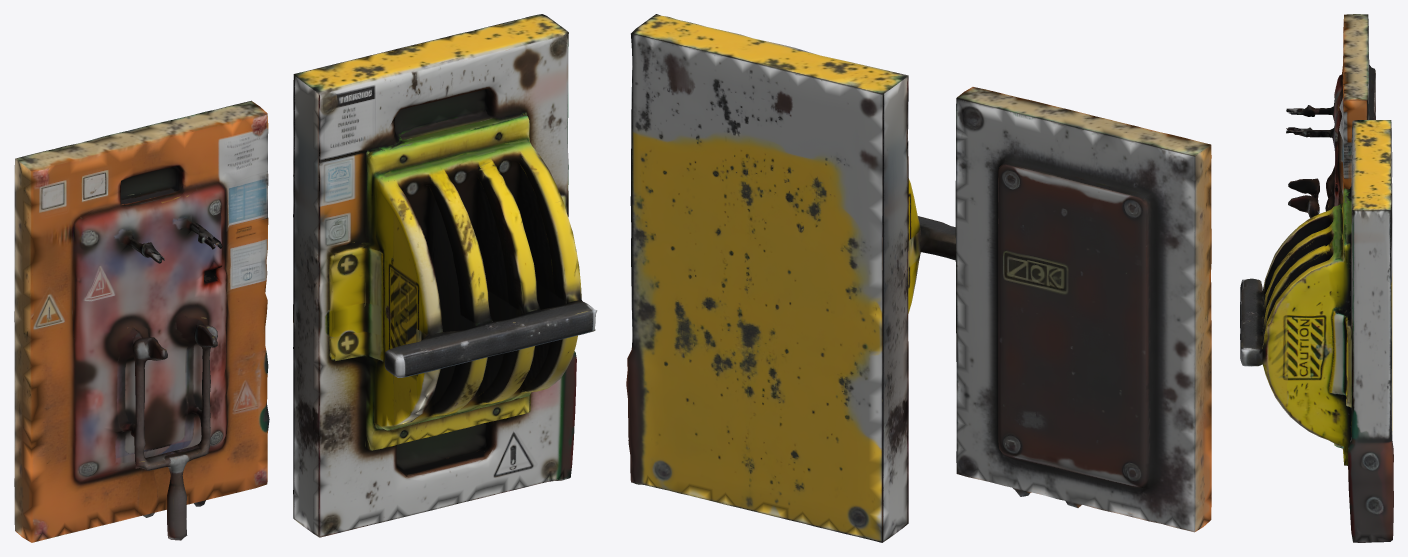
File: Meshy_AI_Lever_Mechanism_Desig_0102213433_texture.fbx
3 renders of one model, left to right at view 1: azimuth 30°, elevation 25°; view 2: azimuth 150°, elevation 25°; view 3: azimuth 270°, elevation 25°, orthographic. The views are drawn at different scales.
Parts seen in each view (by area): view 1: Mesh0; view 2: Mesh0; view 3: Mesh0.
Boxes of the visible parts, x1,y1,x2,y2 form: Mesh0: (14, 14, 597, 542); Mesh0: (626, 14, 1211, 542); Mesh0: (1240, 14, 1393, 542).
Bounding box in the file's own units: 190 × 147 × 61.76.
1 material, 1 textured.
